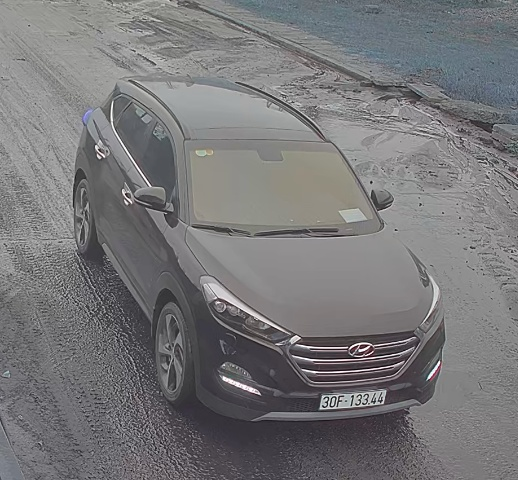vehicle plate: (314, 392, 395, 413)
